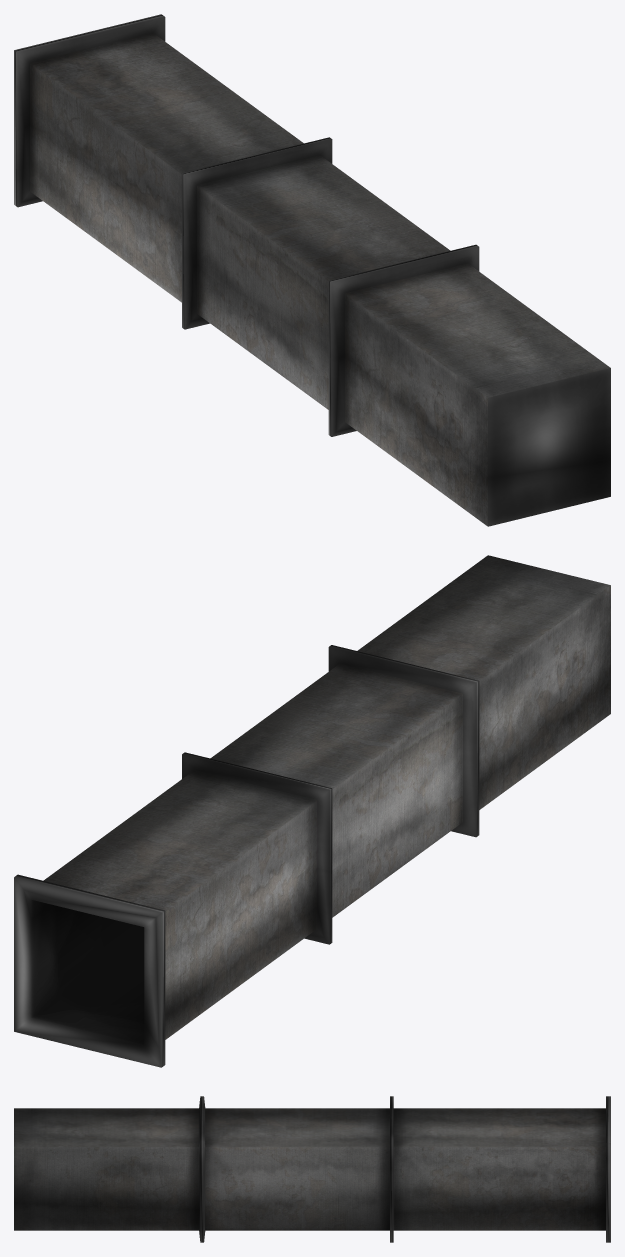
Rendered from Air Duckt.fbx.
The picture shows the model from 3 angles, top to bottom: view 1: azimuth 30°, elevation 25°; view 2: azimuth 150°, elevation 25°; view 3: azimuth 270°, elevation 25°; orthographic projection. The views are drawn at different scales.
Visible parts, largest first — view 1: Cube_004; view 2: Cube_004; view 3: Cube_004.
Boxes of the visible parts, x1=… form: Cube_004: x1=14, y1=14, x2=610, y2=526; Cube_004: x1=14, y1=555, x2=610, y2=1067; Cube_004: x1=14, y1=1096, x2=610, y2=1242.
Bounding box in the file's own units: 1.03 × 1.03 × 5.57.
